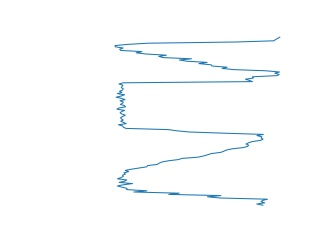distributaryChannelFill: (110, 71, 267, 142)
mouthBar: (112, 32, 282, 77)
underwaterDistributaryChannel: (114, 139, 271, 208)
